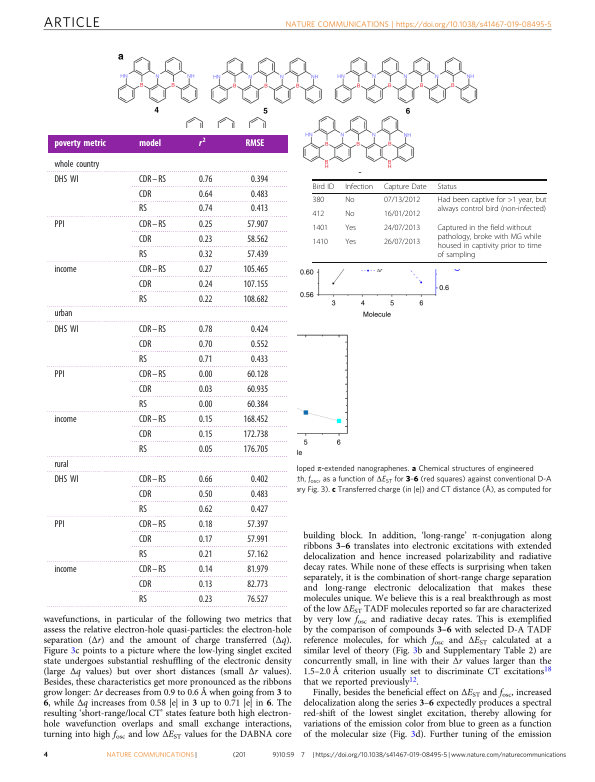borderless: (46, 133, 289, 608), (312, 178, 547, 262)
cell: (436, 223, 542, 260), (436, 195, 547, 214), (54, 139, 107, 150), (54, 159, 100, 170), (383, 182, 427, 191), (383, 195, 421, 205), (383, 209, 421, 219), (383, 223, 421, 233), (383, 237, 421, 247), (138, 174, 167, 185), (138, 219, 167, 230), (138, 264, 167, 275), (138, 324, 167, 335), (138, 369, 167, 380), (138, 414, 167, 425), (138, 474, 167, 485), (138, 519, 167, 530), (138, 564, 167, 575), (54, 174, 80, 185), (243, 264, 269, 275), (243, 279, 269, 290), (243, 294, 269, 305), (54, 324, 80, 335), (243, 414, 269, 425), (243, 429, 269, 440), (243, 444, 269, 455), (54, 474, 80, 485), (344, 182, 374, 191), (138, 139, 162, 150), (54, 264, 78, 275), (54, 414, 78, 425), (54, 564, 78, 575), (246, 219, 269, 230), (246, 234, 269, 245), (246, 249, 269, 260), (246, 369, 269, 380), (246, 384, 269, 395), (246, 399, 269, 410), (246, 519, 269, 530), (246, 534, 269, 545), (246, 549, 269, 560), (246, 564, 269, 575), (246, 579, 269, 590), (246, 594, 269, 605), (245, 139, 265, 150), (250, 174, 269, 185), (250, 189, 269, 200), (250, 204, 269, 215), (54, 309, 73, 320), (250, 324, 269, 335), (250, 339, 269, 350), (250, 354, 269, 365), (250, 474, 269, 485), (250, 489, 269, 500), (250, 504, 269, 515), (312, 182, 335, 191), (436, 182, 458, 191), (54, 459, 70, 470), (312, 223, 329, 233), (312, 237, 329, 247), (198, 174, 213, 185), (198, 189, 213, 200), (198, 204, 213, 215), (198, 219, 213, 230), (198, 234, 213, 245), (198, 249, 213, 260), (198, 264, 213, 275), (198, 279, 213, 290), (198, 294, 213, 305), (198, 324, 213, 335), (198, 339, 213, 350), (198, 354, 213, 365), (198, 369, 213, 380), (198, 384, 213, 395), (198, 399, 213, 410), (198, 414, 213, 425), (198, 429, 213, 440), (198, 444, 213, 455), (198, 474, 213, 485), (198, 489, 213, 500), (198, 504, 213, 515), (198, 519, 213, 530), (198, 534, 213, 545), (198, 549, 213, 560), (198, 564, 213, 575), (198, 579, 213, 590), (198, 594, 213, 605), (138, 189, 152, 200), (138, 234, 152, 245), (138, 279, 152, 290), (138, 339, 152, 350), (138, 384, 152, 395), (138, 429, 152, 440), (138, 489, 152, 500), (138, 534, 152, 545), (138, 579, 152, 590), (312, 195, 325, 205), (312, 209, 325, 219), (344, 223, 357, 233), (344, 237, 357, 247), (54, 219, 65, 230), (54, 369, 65, 380), (54, 519, 65, 530), (138, 204, 148, 215), (138, 249, 148, 260), (138, 294, 148, 305), (138, 354, 148, 365), (138, 399, 148, 410), (138, 444, 148, 455), (138, 504, 148, 515), (138, 549, 148, 560), (138, 594, 148, 605), (344, 195, 355, 205), (344, 209, 355, 219), (198, 136, 207, 148)
